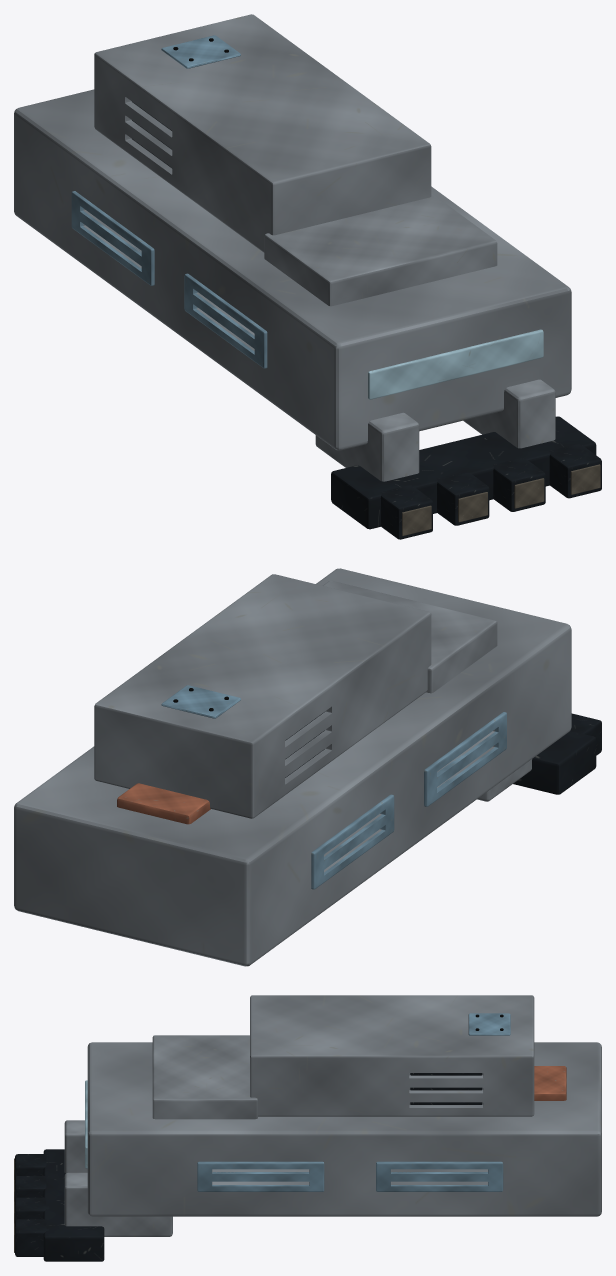
3 renders of one model, top to bottom at view 1: azimuth 30°, elevation 25°; view 2: azimuth 150°, elevation 25°; view 3: azimuth 270°, elevation 25°, orthographic. The views are drawn at different scales.
Parts seen in each view (by area): view 1: Mauna long monolithic hull, Mauna sloping central housing, Mauna low forward roof step, Mauna wide grading blade, Mauna front service fascia, Mauna blade mounting block -1, Mauna blade mounting block 1, Mauna side service plate -10.7, Mauna side service plate -1-0.62, Mauna broad grading tooth 0.57, Mauna broad grading tooth 0.19, Mauna broad grading tooth -0.57 (+6 smaller); view 2: Mauna long monolithic hull, Mauna sloping central housing, Mauna low forward roof step, Mauna side service plate -1-0.62, Mauna wide grading blade, Mauna side service plate -10.7, Mauna orange rear marker, Mauna single recessed maintenance cassette, Mauna broad grading tooth -0.57, Mauna blade mounting block -1; view 3: Mauna long monolithic hull, Mauna sloping central housing, Mauna low forward roof step, Mauna wide grading blade, Mauna side service plate 1-0.62, Mauna side service plate 10.7, Mauna blade mounting block 1, Mauna orange rear marker, Mauna broad grading tooth 0.57, Mauna blade mounting block -1, Mauna single recessed maintenance cassette, Mauna broad grading tooth 0.19 (+2 smaller).
Part boxes in pixels (bbox=[...]): Mauna long monolithic hull: bbox=[14, 89, 571, 450]; Mauna sloping central housing: bbox=[94, 14, 431, 252]; Mauna low forward roof step: bbox=[264, 194, 497, 306]; Mauna wide grading blade: bbox=[331, 416, 596, 529]; Mauna front service fascia: bbox=[368, 329, 543, 399]; Mauna blade mounting block -1: bbox=[315, 412, 419, 481]; Mauna blade mounting block 1: bbox=[463, 379, 555, 448]; Mauna side service plate -10.7: bbox=[71, 191, 154, 285]; Mauna side service plate -1-0.62: bbox=[184, 273, 267, 368]; Mauna broad grading tooth 0.57: bbox=[549, 444, 601, 498]; Mauna broad grading tooth 0.19: bbox=[493, 457, 545, 511]; Mauna broad grading tooth -0.57: bbox=[380, 485, 432, 539]; Mauna long monolithic hull: bbox=[14, 568, 571, 966]; Mauna sloping central housing: bbox=[94, 574, 431, 818]; Mauna low forward roof step: bbox=[323, 580, 497, 693]; Mauna side service plate -1-0.62: bbox=[424, 712, 506, 806]; Mauna wide grading blade: bbox=[513, 731, 596, 794]; Mauna side service plate -10.7: bbox=[311, 794, 394, 889]; Mauna orange rear marker: bbox=[117, 783, 210, 824]; Mauna single recessed maintenance cassette: bbox=[161, 685, 240, 718]; Mauna broad grading tooth -0.57: bbox=[569, 713, 601, 755]; Mauna blade mounting block -1: bbox=[477, 759, 532, 801]; Mauna long monolithic hull: bbox=[87, 1042, 601, 1216]; Mauna sloping central housing: bbox=[250, 995, 534, 1116]; Mauna low forward roof step: bbox=[152, 1035, 257, 1119]; Mauna wide grading blade: bbox=[43, 1149, 104, 1261]; Mauna side service plate 1-0.62: bbox=[197, 1161, 324, 1191]; Mauna side service plate 10.7: bbox=[376, 1161, 503, 1191]; Mauna blade mounting block 1: bbox=[64, 1172, 172, 1236]; Mauna orange rear marker: bbox=[534, 1066, 566, 1100]; Mauna broad grading tooth 0.57: bbox=[15, 1219, 49, 1256]; Mauna blade mounting block -1: bbox=[64, 1120, 87, 1173]; Mauna single recessed maintenance cassette: bbox=[468, 1013, 510, 1035]; Mauna broad grading tooth 0.19: bbox=[15, 1197, 49, 1221].
Size of the model in its own units: 1.65 by 1.6 by 4.34.
7 materials, 7 textured.
